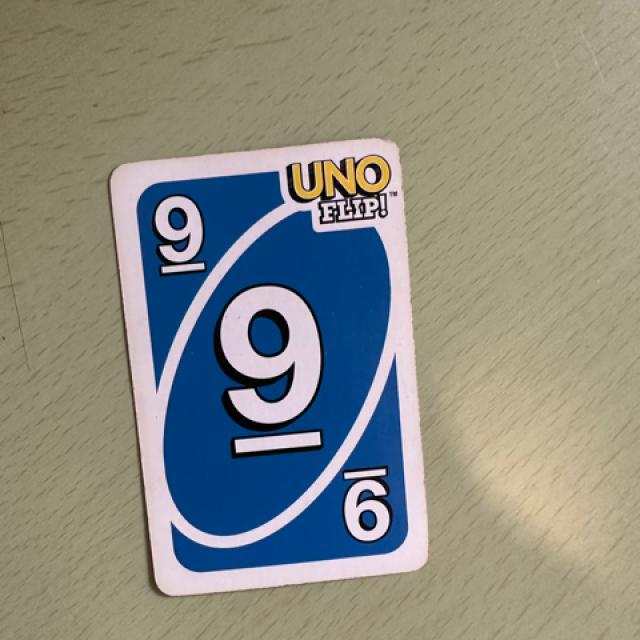lblue-9: (128, 169, 224, 279)
